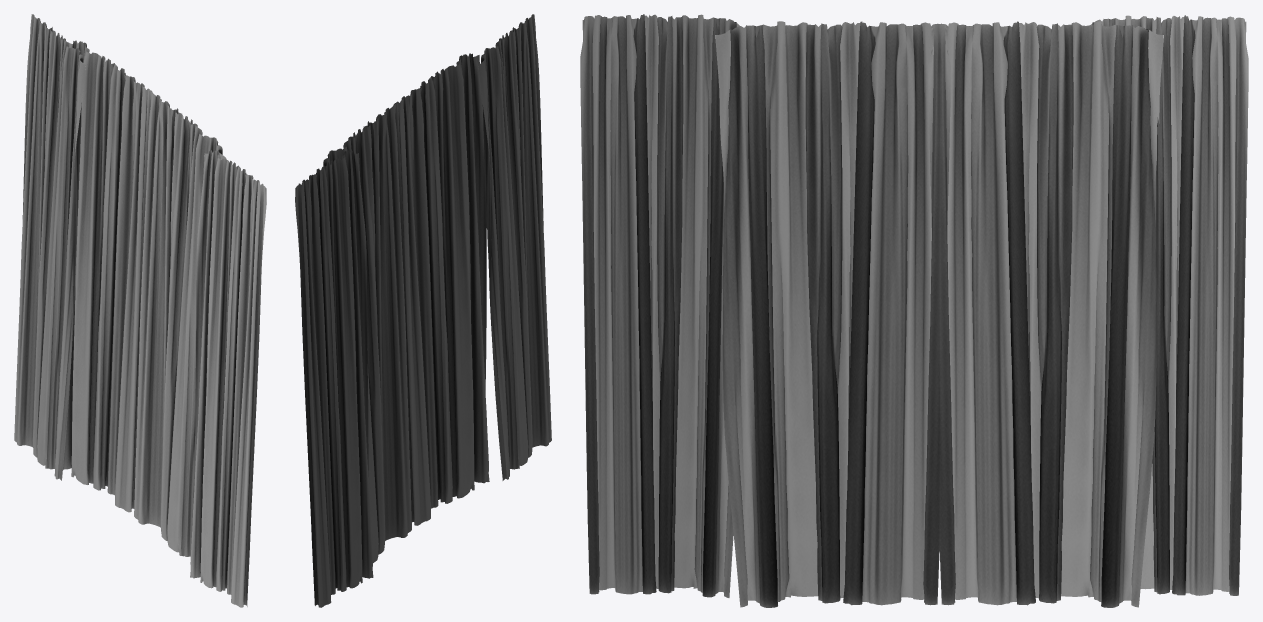
File: Curtains_f437c5aa.obj
The picture shows the model from 3 angles, left to right: view 1: azimuth 30°, elevation 25°; view 2: azimuth 150°, elevation 25°; view 3: azimuth 270°, elevation 25°; orthographic projection. The views are drawn at different scales.
Parts seen in each view (by area): view 1: FP202:Curtain1__149aefe9, FP202:Curtain1__1_ef6c869e, FP202:Curtain1_86c3a970, FP202:Curtain1__2_e0228ea6; view 2: FP202:Curtain1_86c3a970, FP202:Curtain1__2_e0228ea6, FP202:Curtain1__1_ef6c869e, FP202:Curtain1__149aefe9; view 3: FP202:Curtain1__149aefe9, FP202:Curtain1_86c3a970, FP202:Curtain1__1_ef6c869e, FP202:Curtain1__2_e0228ea6.
Boxes of the visible parts, x1,y1,x2,y2 form: FP202:Curtain1__149aefe9: (63, 40, 154, 512); FP202:Curtain1__1_ef6c869e: (190, 150, 266, 607); FP202:Curtain1_86c3a970: (134, 89, 226, 556); FP202:Curtain1__2_e0228ea6: (14, 14, 85, 480); FP202:Curtain1_86c3a970: (391, 53, 489, 525); FP202:Curtain1__2_e0228ea6: (295, 150, 373, 607); FP202:Curtain1__1_ef6c869e: (478, 14, 551, 480); FP202:Curtain1__149aefe9: (320, 102, 411, 562); FP202:Curtain1__149aefe9: (928, 21, 1163, 607); FP202:Curtain1_86c3a970: (715, 21, 950, 607); FP202:Curtain1__1_ef6c869e: (580, 14, 739, 597); FP202:Curtain1__2_e0228ea6: (1090, 15, 1248, 595).
Size of the model in its own units: 0.2166 by 2.23 by 2.26.
